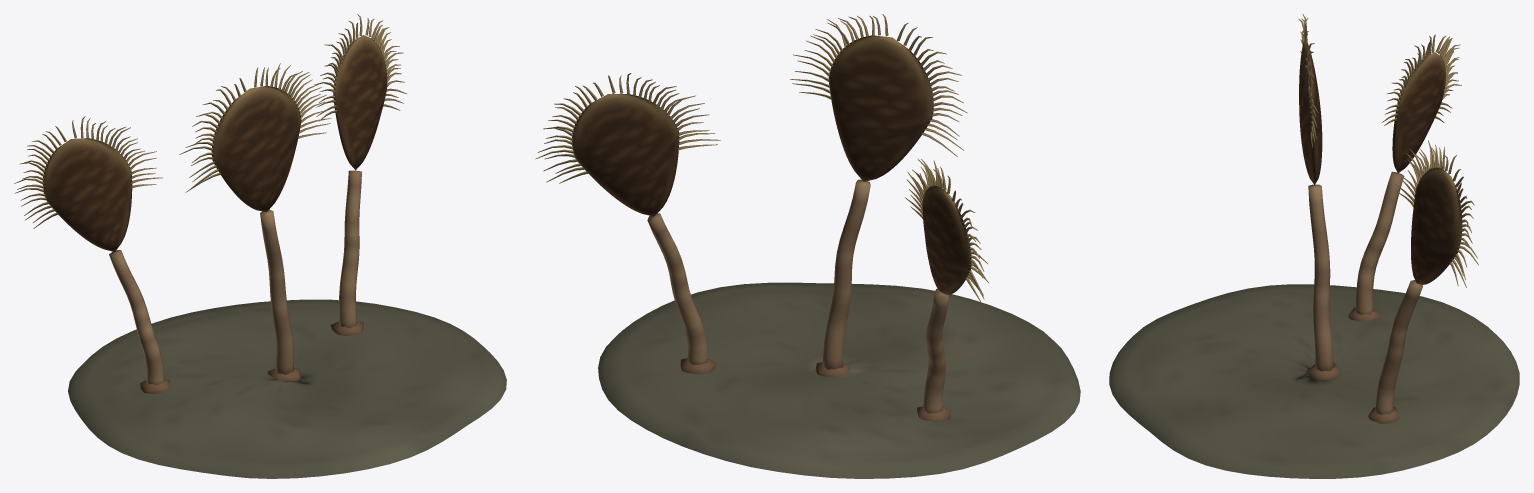
The model's file is LingulellaChengjiangensis.fbx.
The picture shows the model from 3 angles, left to right: view 1: azimuth 30°, elevation 25°; view 2: azimuth 150°, elevation 25°; view 3: azimuth 270°, elevation 25°; orthographic projection. The views are drawn at different scales.
Visible parts, largest first — view 1: LingulellaChengjiangensis; view 2: LingulellaChengjiangensis; view 3: LingulellaChengjiangensis.
Boxes of the visible parts, <box> form: LingulellaChengjiangensis: <box>14,14,506,478</box>; LingulellaChengjiangensis: <box>535,14,1080,478</box>; LingulellaChengjiangensis: <box>1109,14,1519,478</box>.
Bounding box in the file's own units: 0.9433 × 0.7585 × 0.8254.
